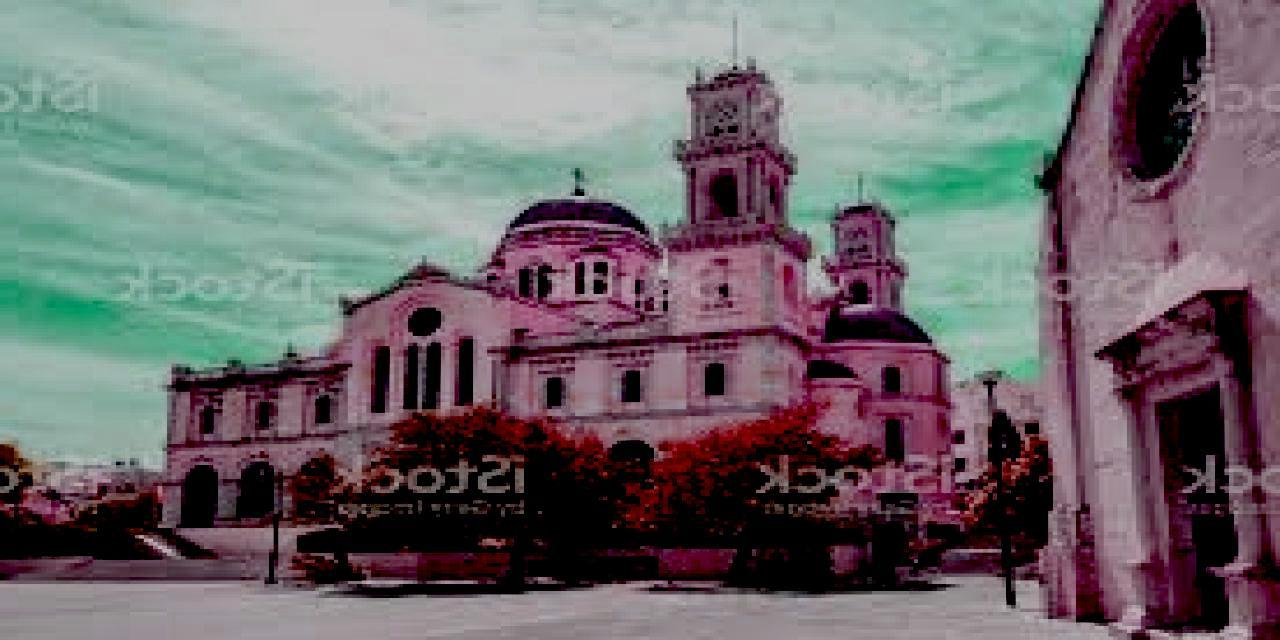Agios Minas: (163, 47, 971, 538)
